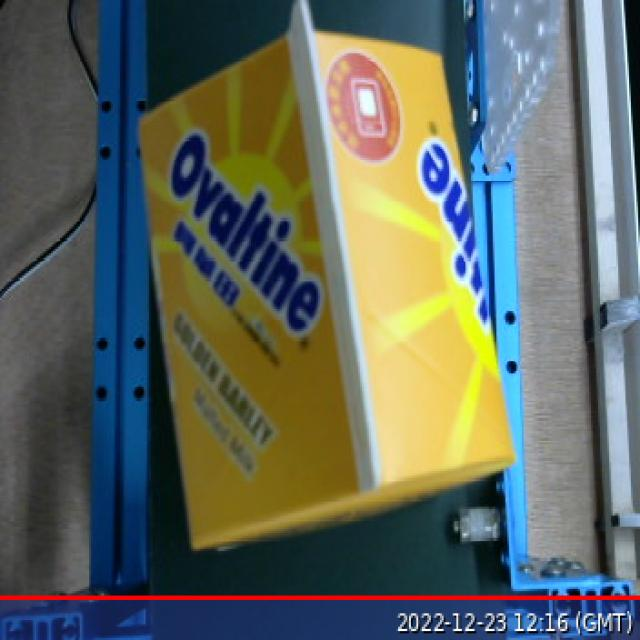non_white_jug: (111, 4, 535, 577)
